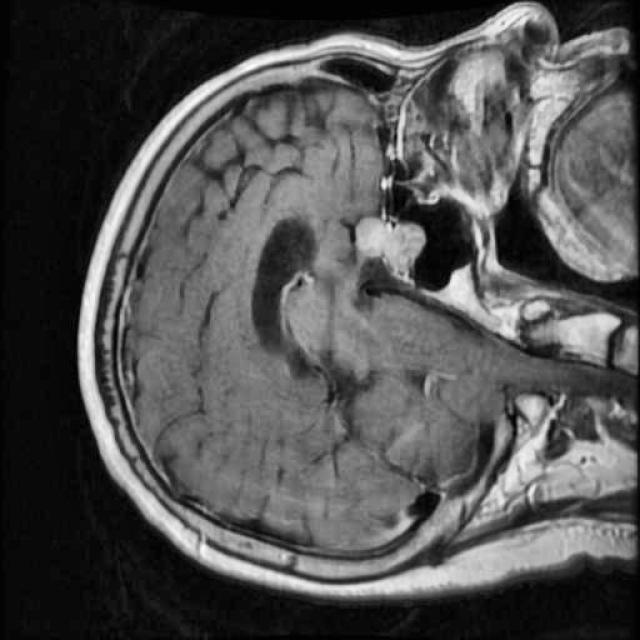Tumor: (342, 208, 436, 288)
